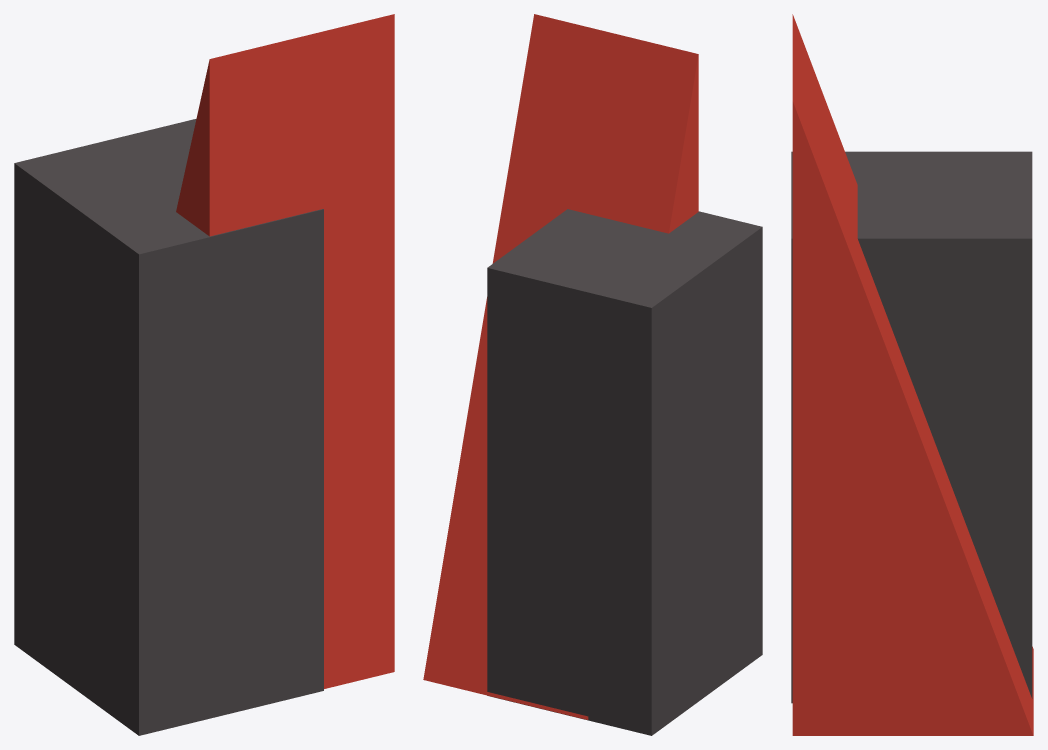
Rendered from HALOSAKA.fbx.
3 renders of one model, left to right at view 1: azimuth 30°, elevation 25°; view 2: azimuth 150°, elevation 25°; view 3: azimuth 270°, elevation 25°, orthographic. The views are drawn at different scales.
Parts seen in each view (by area): view 1: 三角; view 2: 三角; view 3: 三角.
Part boxes in pixels (bbox=[...]): 三角: bbox=[14, 14, 394, 735]; 三角: bbox=[423, 14, 762, 735]; 三角: bbox=[791, 14, 1033, 735].
Bounding box in the file's own units: 10093 × 24794 × 8553.
